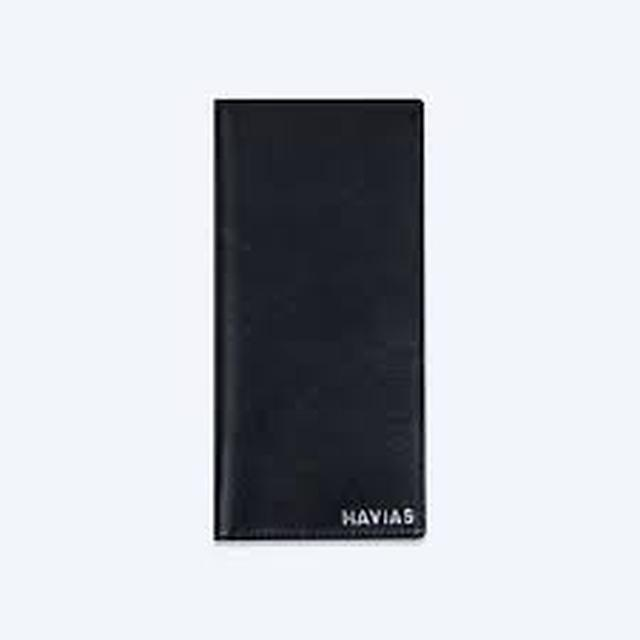wallet: (169, 60, 461, 566)
